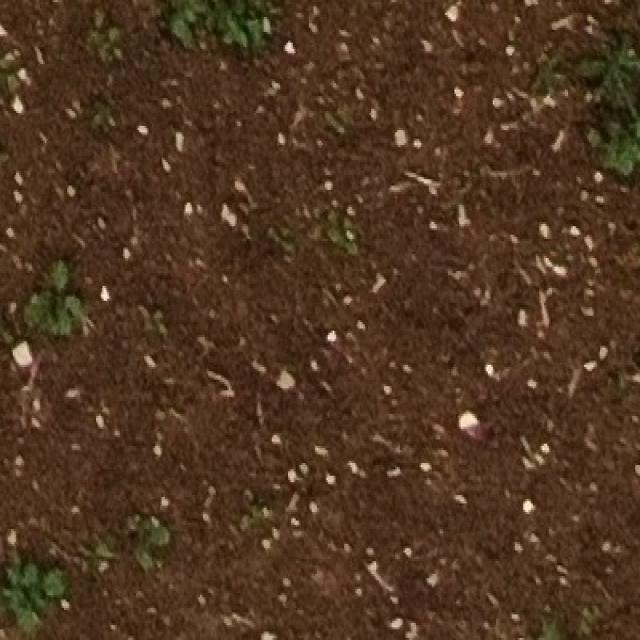cirse: (582, 26, 634, 116), (580, 21, 630, 110), (563, 22, 611, 109)
